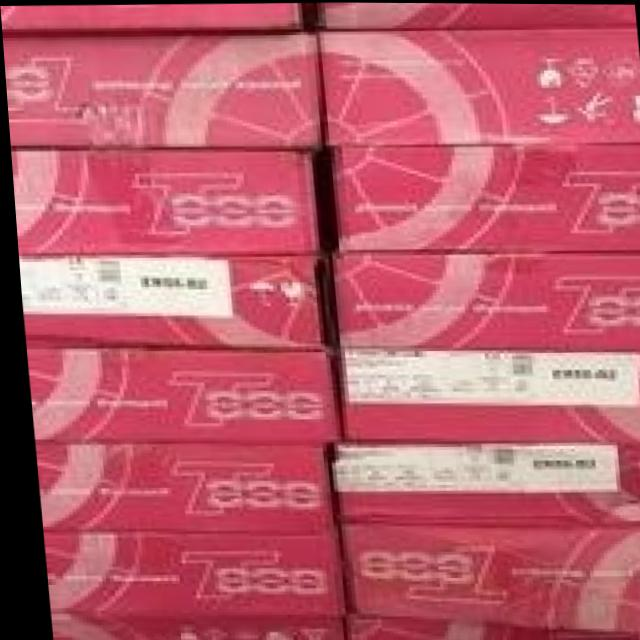box: (314, 21, 640, 142), (312, 138, 640, 252), (2, 31, 319, 148), (336, 522, 640, 633), (9, 148, 320, 253), (323, 252, 640, 352), (331, 345, 640, 446), (15, 255, 328, 348), (25, 349, 334, 442), (28, 441, 333, 532), (326, 441, 640, 525), (35, 529, 336, 616), (0, 2, 315, 35), (43, 611, 334, 640), (324, 2, 634, 28), (334, 616, 640, 640)
